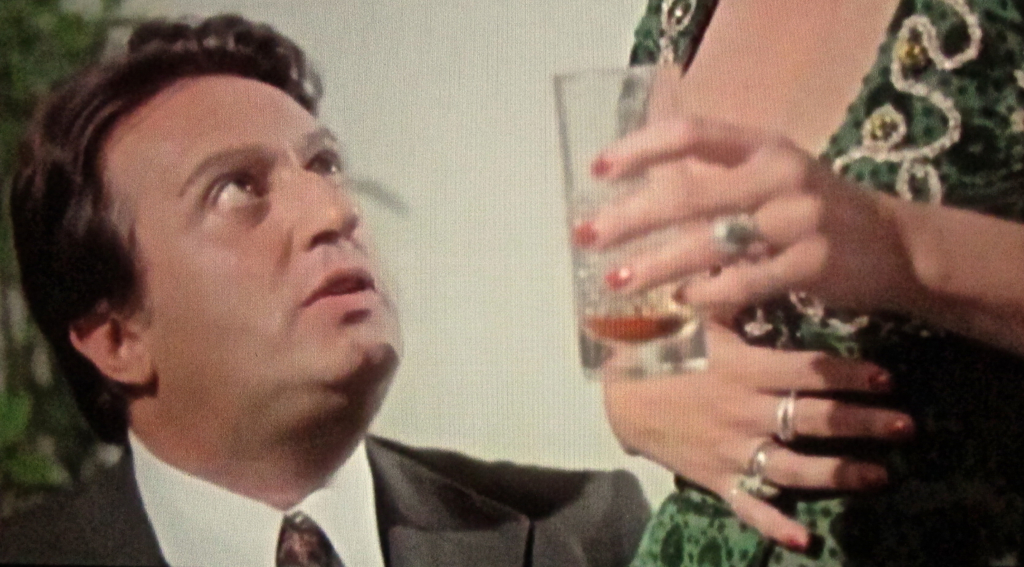Human-face: (93, 72, 407, 390)
